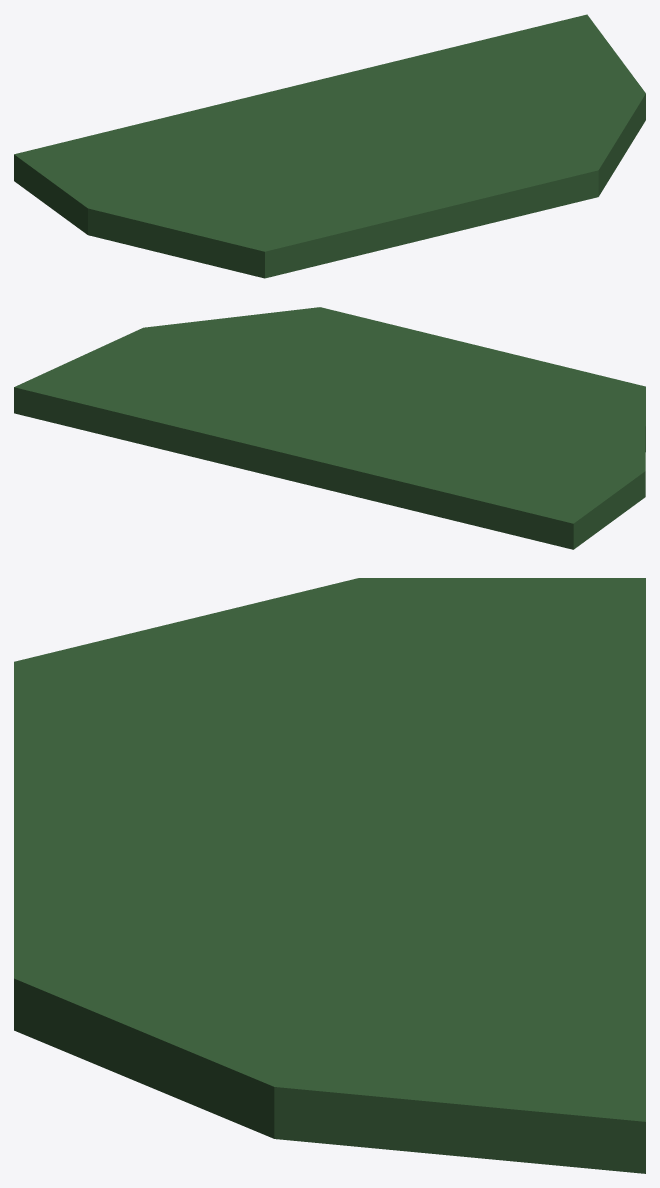
Rendered from x_proval_00_84_1_rmstrd.fbx.
The picture shows the model from 3 angles, top to bottom: view 1: azimuth 30°, elevation 25°; view 2: azimuth 150°, elevation 25°; view 3: azimuth 270°, elevation 25°; orthographic projection. The views are drawn at different scales.
Parts seen in each view (by area): view 1: x_proval_00_84_1_rmstrd1; view 2: x_proval_00_84_1_rmstrd1; view 3: x_proval_00_84_1_rmstrd1.
Part boxes in pixels (x1,y1,x2,y2): x_proval_00_84_1_rmstrd1: [14, 14, 645, 278]; x_proval_00_84_1_rmstrd1: [14, 307, 645, 549]; x_proval_00_84_1_rmstrd1: [14, 578, 645, 1173].
Bounding box in the file's own units: 4.48 × 0.2 × 2.2.
